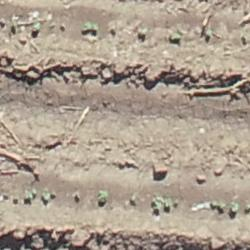cotton: (152, 200, 161, 210), (99, 191, 107, 199), (41, 192, 49, 200), (82, 21, 90, 28), (232, 203, 238, 211), (173, 33, 181, 38), (25, 194, 32, 199), (164, 199, 169, 206), (35, 23, 40, 30), (220, 204, 226, 209), (92, 24, 98, 29), (140, 29, 147, 33), (212, 201, 217, 206), (131, 195, 135, 201), (33, 189, 36, 195), (13, 197, 18, 199)
